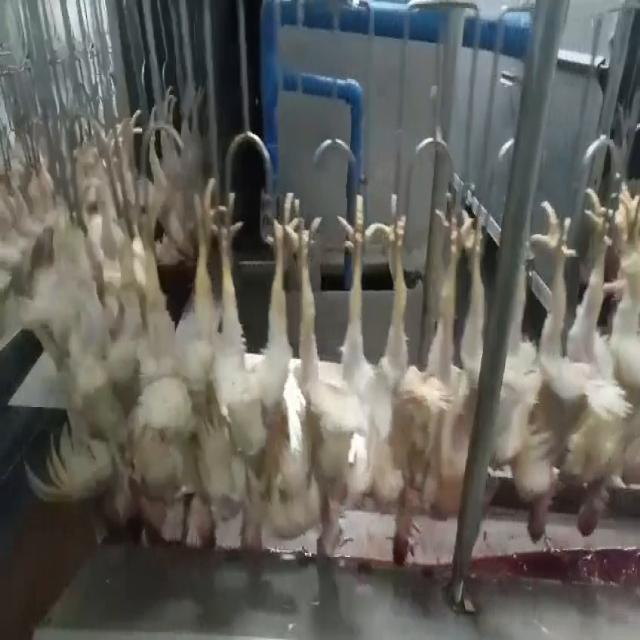chicken: (378, 207, 466, 574), (294, 195, 378, 570), (139, 170, 214, 548), (219, 186, 292, 564), (504, 183, 574, 544), (569, 177, 636, 538), (72, 173, 138, 536), (431, 209, 490, 518)
